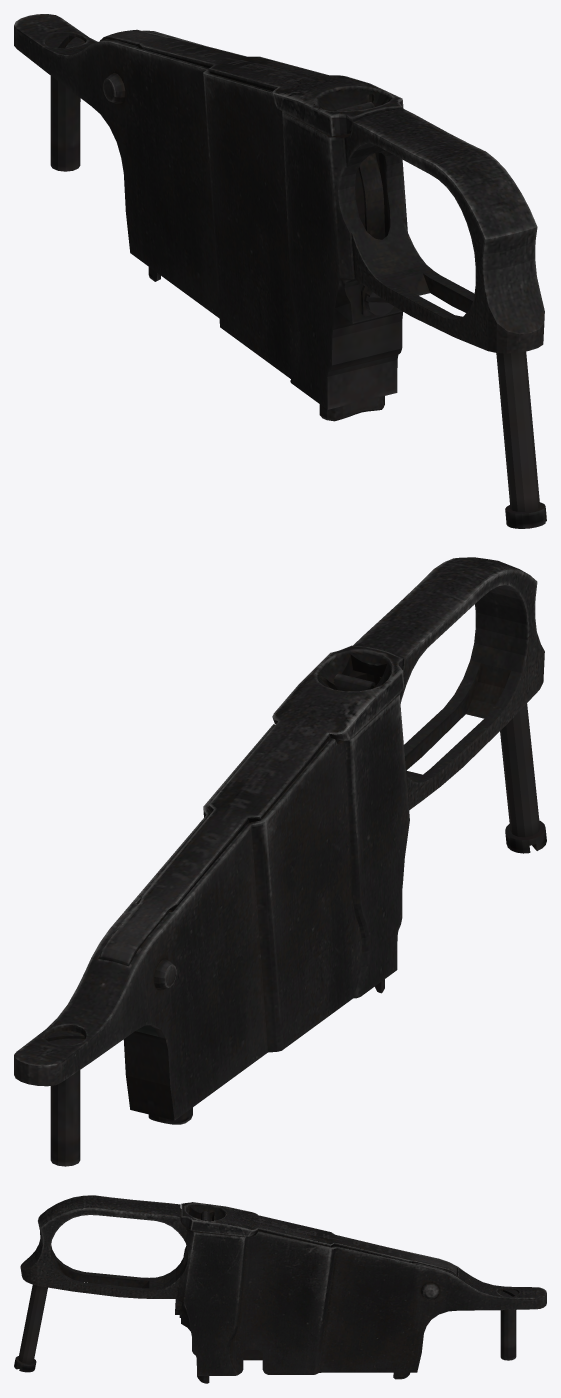
The picture shows the model from 3 angles, top to bottom: view 1: azimuth 30°, elevation 25°; view 2: azimuth 150°, elevation 25°; view 3: azimuth 270°, elevation 25°; orthographic projection. The views are drawn at different scales.
Parts seen in each view (by area): view 1: TW_5ae0973a5acfc4001562206c_PZ_Import; view 2: TW_5ae0973a5acfc4001562206c_PZ_Import; view 3: TW_5ae0973a5acfc4001562206c_PZ_Import.
Boxes of the visible parts, left/top/right/bottom form: TW_5ae0973a5acfc4001562206c_PZ_Import: left=14, top=14, right=546, bottom=528; TW_5ae0973a5acfc4001562206c_PZ_Import: left=14, top=557, right=546, bottom=1166; TW_5ae0973a5acfc4001562206c_PZ_Import: left=14, top=1195, right=546, bottom=1383.
Bounding box in the file's own units: 0.0102 × 0.1238 × 0.045.
Materials: 1 (1 with a texture image).
